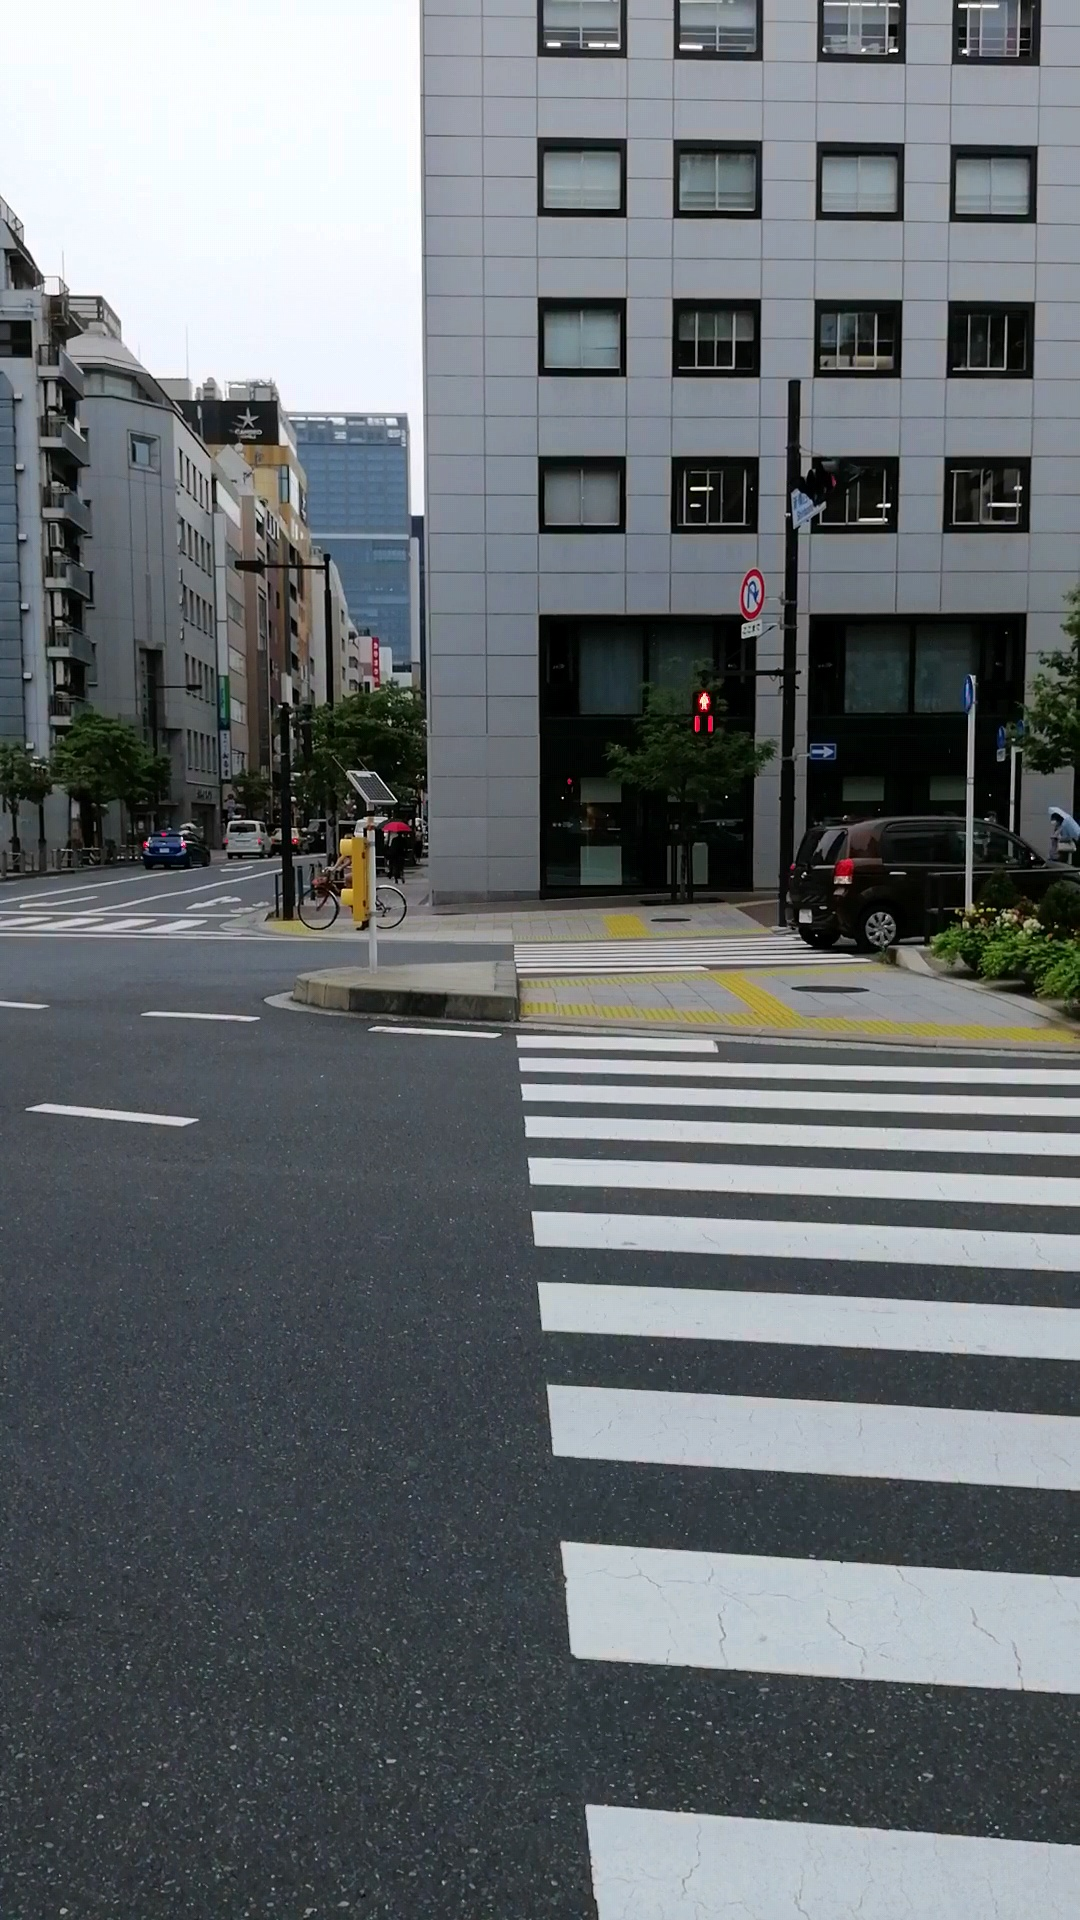red: (692, 688, 716, 736)
